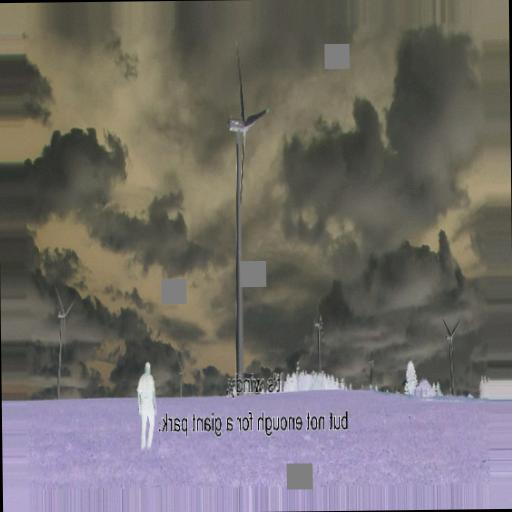wind turbine: (221, 46, 272, 393), (49, 283, 73, 400), (442, 319, 463, 397)
